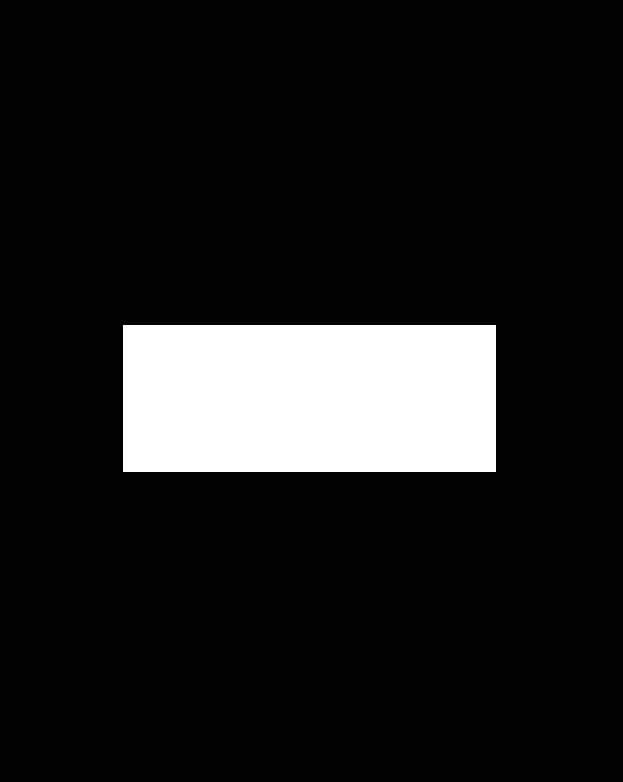table: (123, 325, 495, 471)
